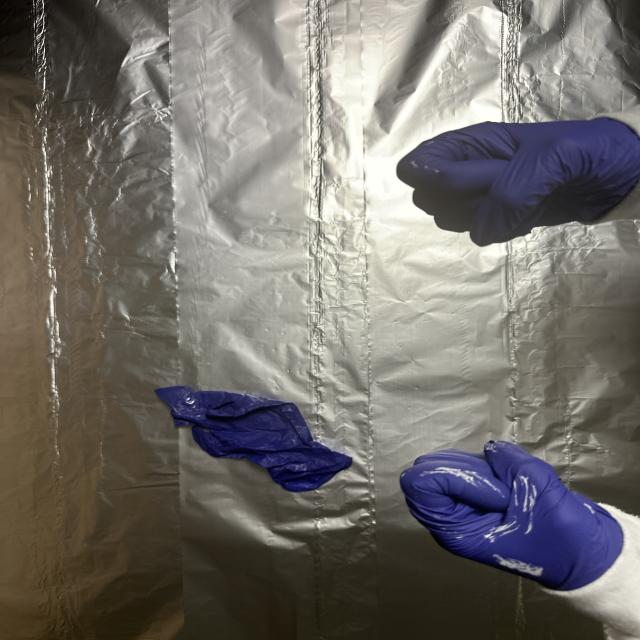gloves_contaminated: (400, 441, 624, 592), (397, 118, 640, 246)
